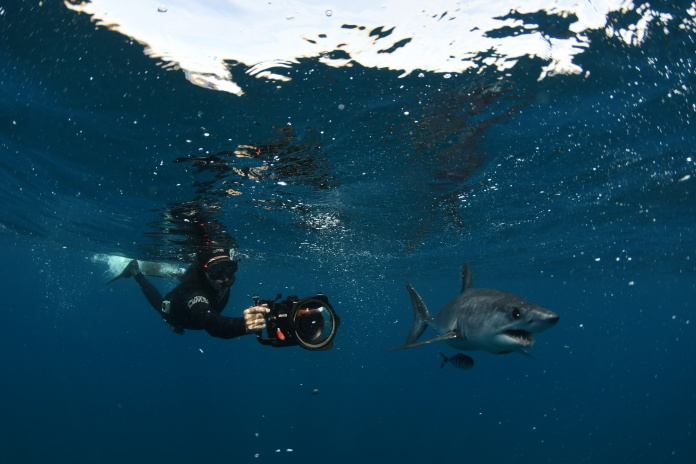Mako: (387, 258, 574, 368)
